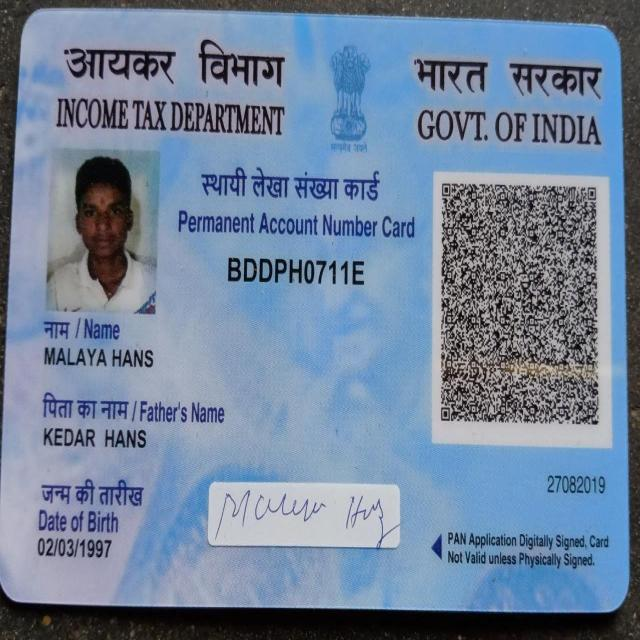pan_card: (21, 12, 625, 602)
